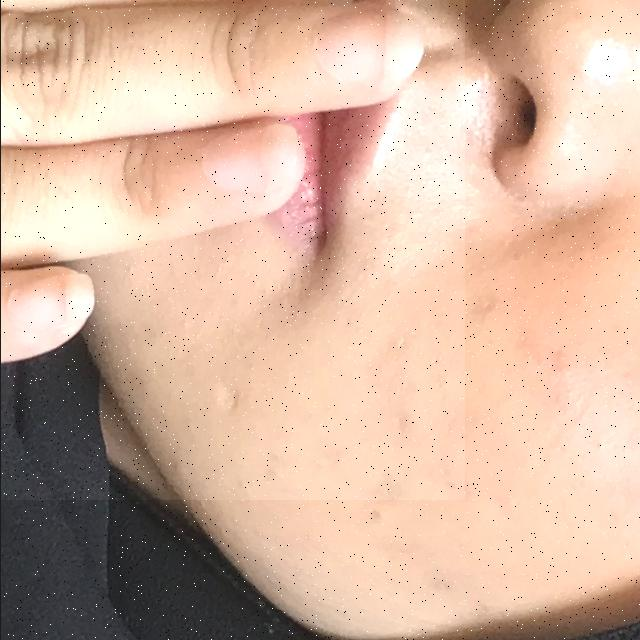ganteng: (0, 0, 464, 500)
